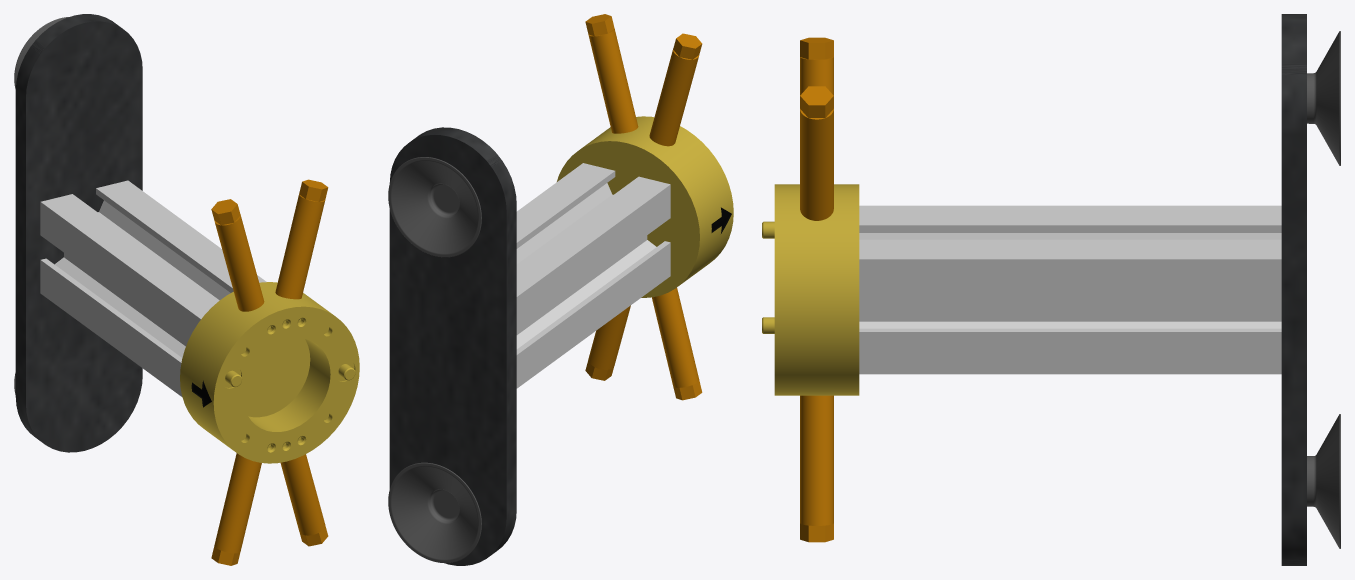
3 renders of one model, left to right at view 1: azimuth 30°, elevation 25°; view 2: azimuth 150°, elevation 25°; view 3: azimuth 270°, elevation 25°, orthographic. The views are drawn at different scales.
Visible parts, largest first — view 1: vg_2.SLDPRT; view 2: vg_2.SLDPRT; view 3: vg_2.SLDPRT.
Boxes of the visible parts, bbox=[...] form: vg_2.SLDPRT: bbox=[14, 14, 359, 565]; vg_2.SLDPRT: bbox=[388, 14, 733, 565]; vg_2.SLDPRT: bbox=[762, 14, 1340, 565].
Bounding box in the file's own units: 0.025 × 0.07 × 0.0685.
6 materials, 1 textured.
